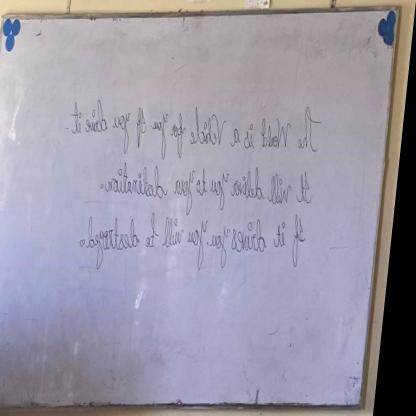Handwritten text: (68, 89, 326, 162), (87, 211, 317, 284), (106, 158, 327, 208)
Whiteboard: (0, 4, 408, 410)
